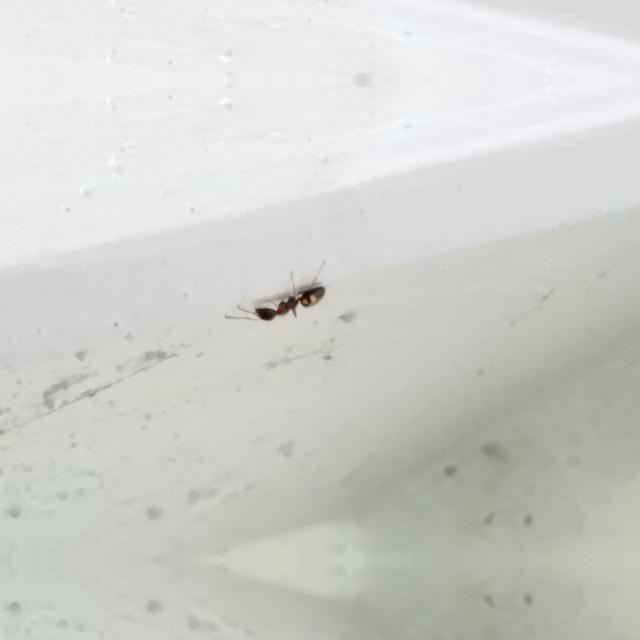Dolichoderus: (236, 268, 336, 328)
